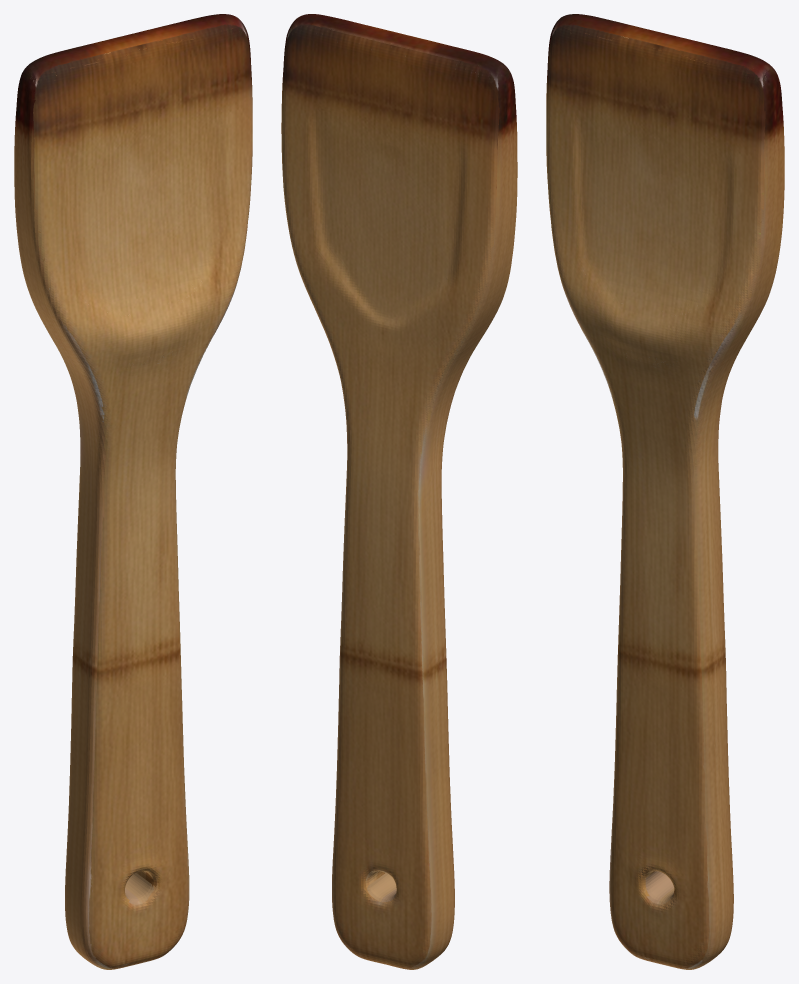
The picture shows the model from 3 angles, left to right: view 1: azimuth 30°, elevation 25°; view 2: azimuth 150°, elevation 25°; view 3: azimuth 330°, elevation 25°; orthographic projection.
Visible parts, largest first — view 1: tmpnax_9__p.ply; view 2: tmpnax_9__p.ply; view 3: tmpnax_9__p.ply.
Boxes of the visible parts, box(x1,y1,x2,y2) form: tmpnax_9__p.ply: box(14, 14, 252, 969); tmpnax_9__p.ply: box(281, 14, 517, 969); tmpnax_9__p.ply: box(546, 14, 784, 969).
Bounding box in the file's own units: 0.0727 × 0.2895 × 0.0242.
1 material, 1 textured.
